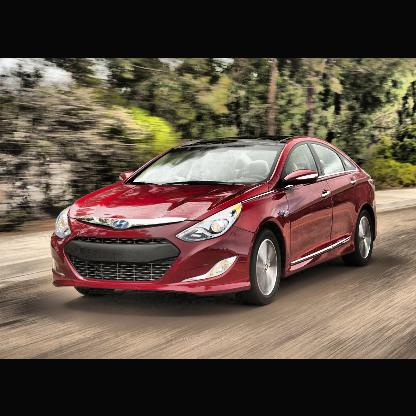Hyundai Sonata Hybrid Sedan 2012: (52, 137, 379, 305)
